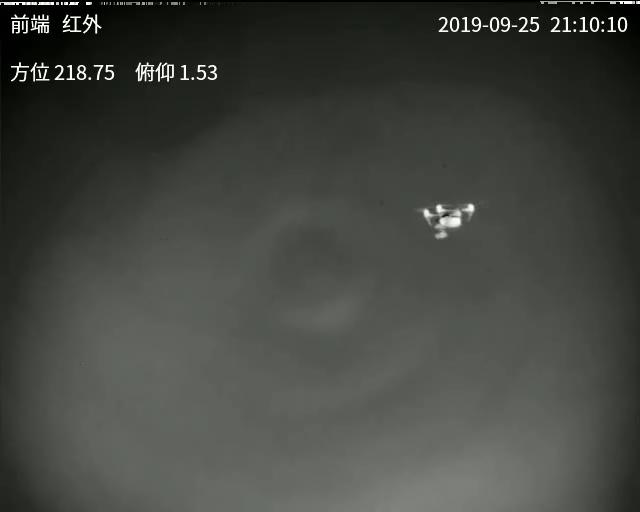uav: (411, 196, 473, 241)
